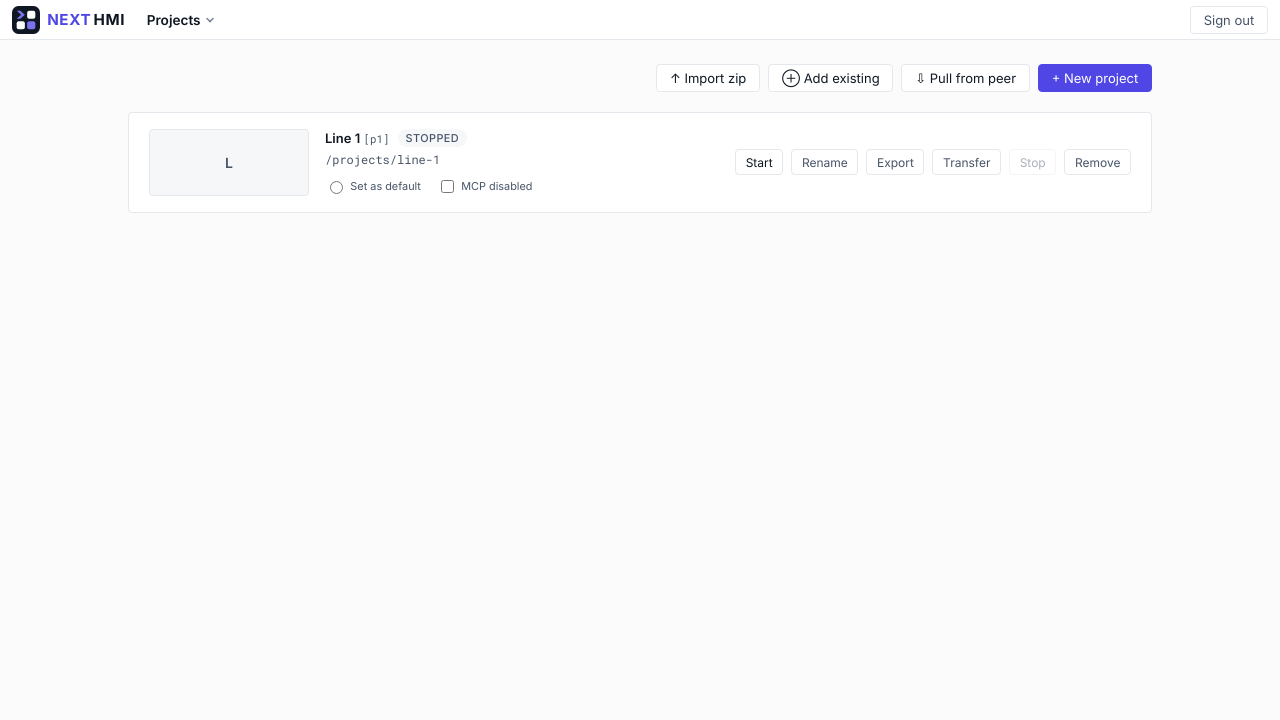
Scenario: project version / upgrade gate › opens an upgrade dialog instead of starting a project that needs one
Step 1. Click the button "Start" → (759, 162), box x1=735 y1=149 x2=783 y2=175
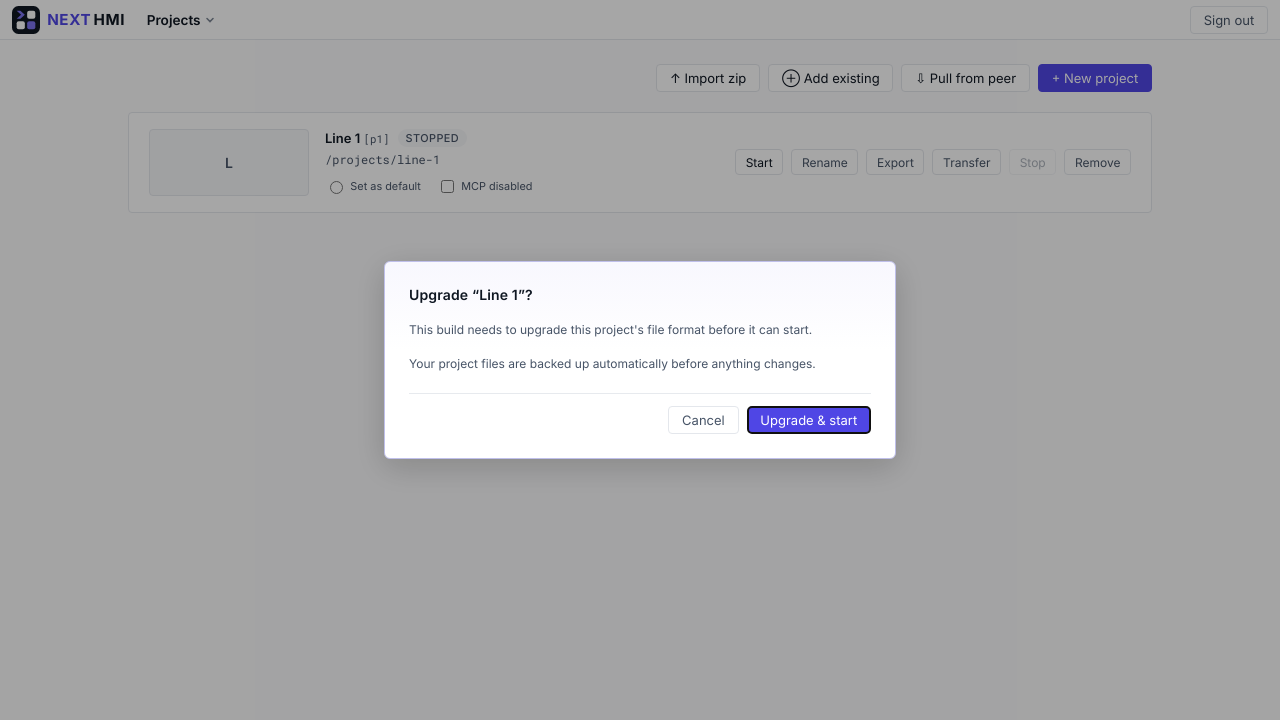
Check: the element with class "cfg-modal" is shown, box x1=384 y1=261 x2=896 y2=459
Check: the text "needs to upgrade this project's file format" is shown, box x1=409 y1=322 x2=812 y2=337
